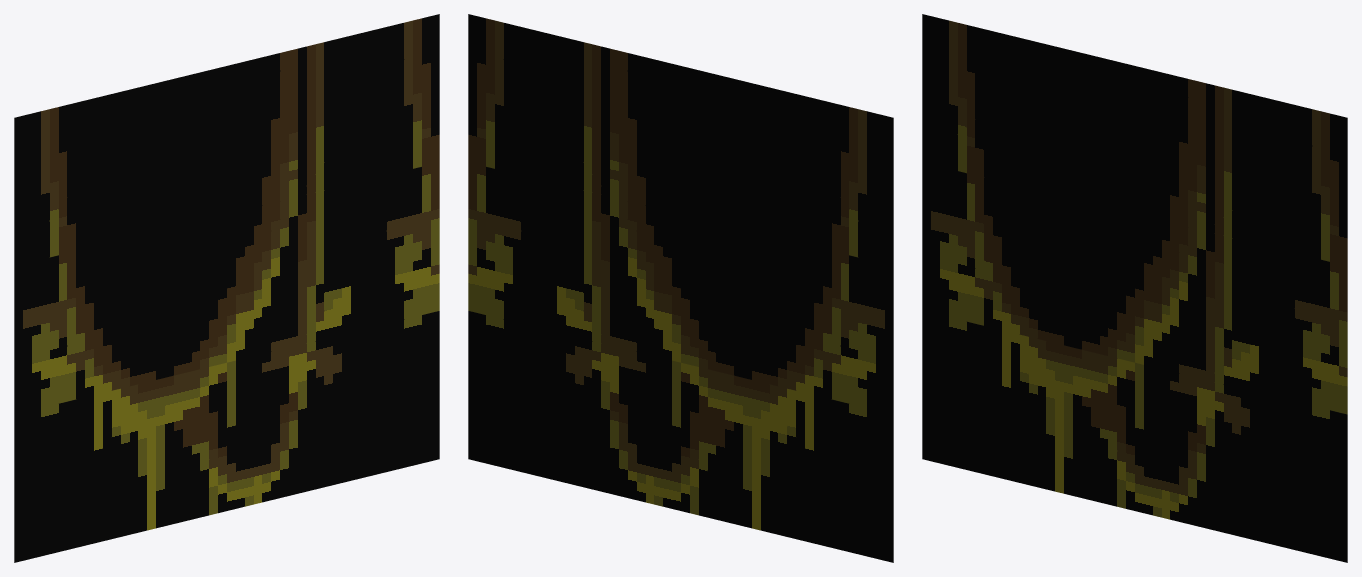
File: Vine.obj
3 views of the same model, side by side, from view 1: azimuth 30°, elevation 25°; view 2: azimuth 150°, elevation 25°; view 3: azimuth 330°, elevation 25° (orthographic).
Parts seen in each view (by area): view 1: Default; view 2: Default; view 3: Default.
Boxes of the visible parts, x1,y1,x2,y2 form: Default: [14, 14, 439, 562]; Default: [468, 14, 893, 562]; Default: [922, 14, 1347, 562].
Size of the model in its own units: 15 by 15 by 0.
Materials: 1 (1 with a texture image).
